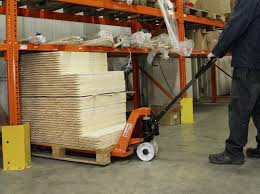Pallet Jack: (30, 56, 219, 166)
